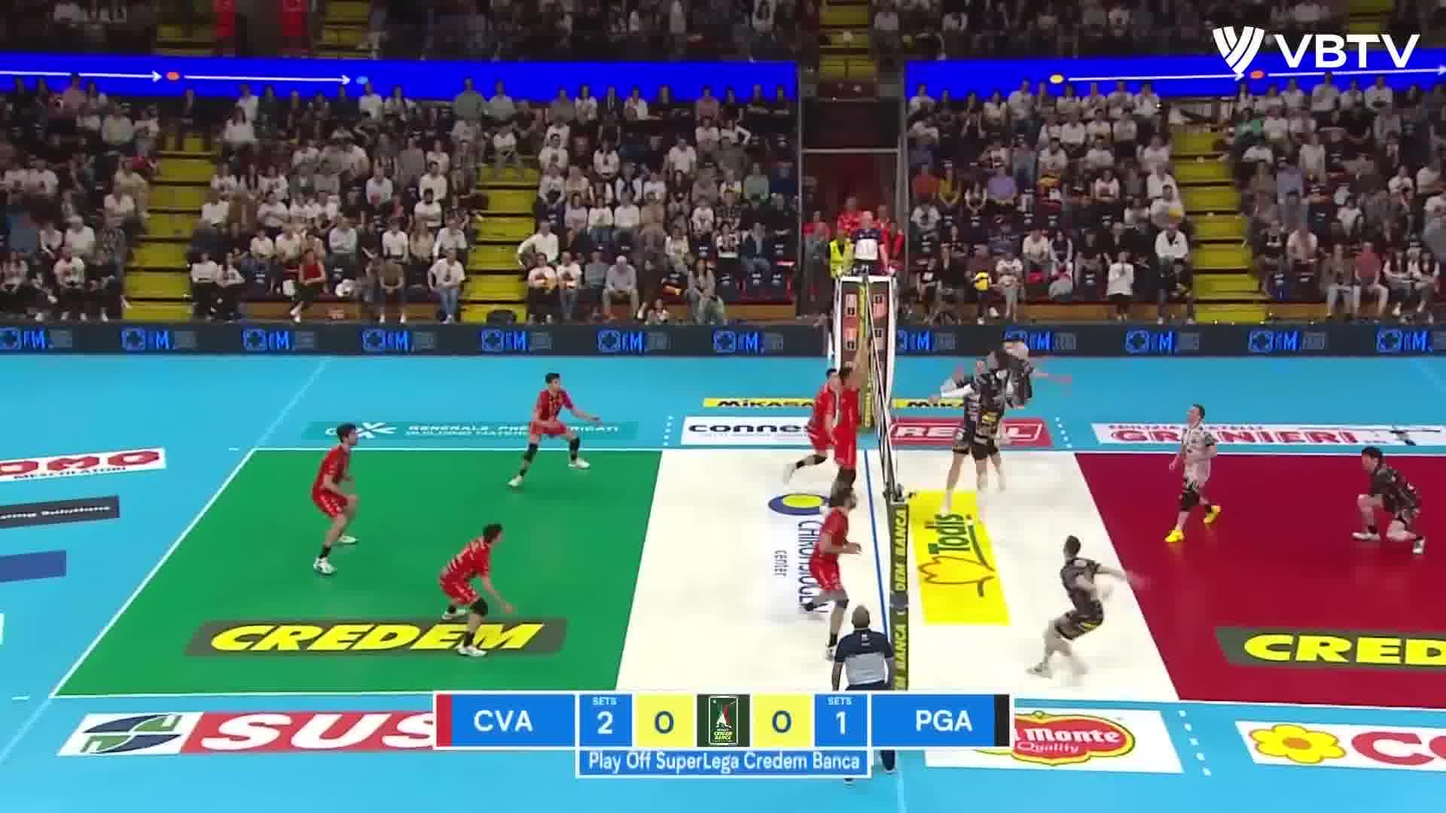balls: (970, 269, 996, 293)
